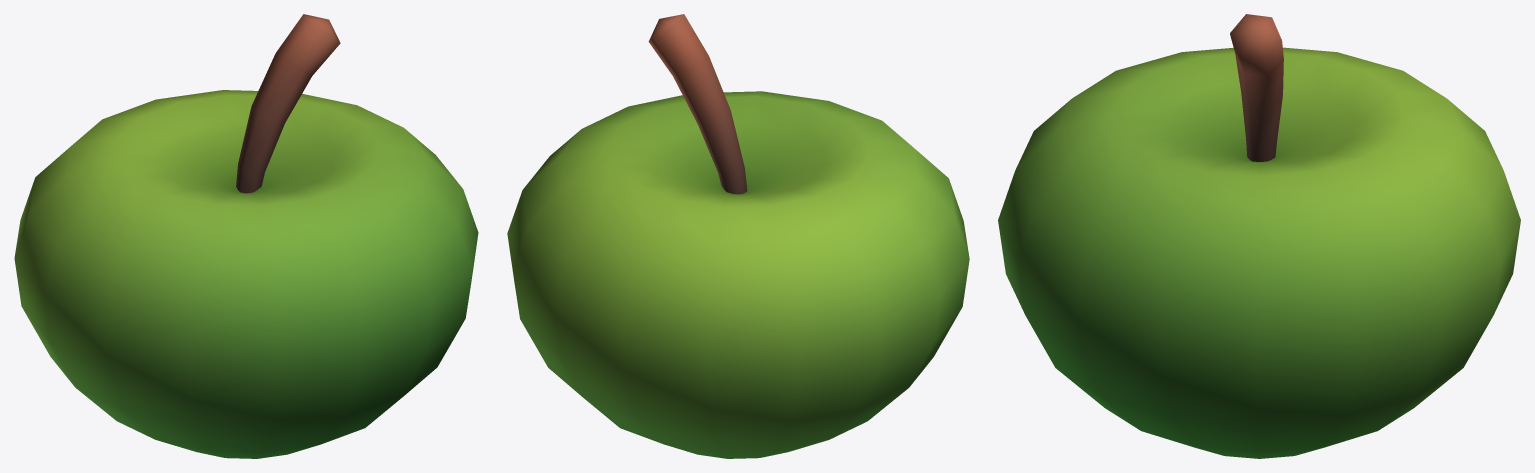
The model's file is apple_002.fbx.
3 renders of one model, left to right at view 1: azimuth 30°, elevation 25°; view 2: azimuth 150°, elevation 25°; view 3: azimuth 270°, elevation 25°, orthographic. The views are drawn at different scales.
Visible parts, largest first — view 1: apple_002; view 2: apple_002; view 3: apple_002.
Boxes of the visible parts, left/top/right/bottom form: apple_002: left=14, top=14, right=478, bottom=458; apple_002: left=507, top=14, right=969, bottom=458; apple_002: left=998, top=14, right=1520, bottom=458.
Bounding box in the file's own units: 9 × 9 × 8.48.
